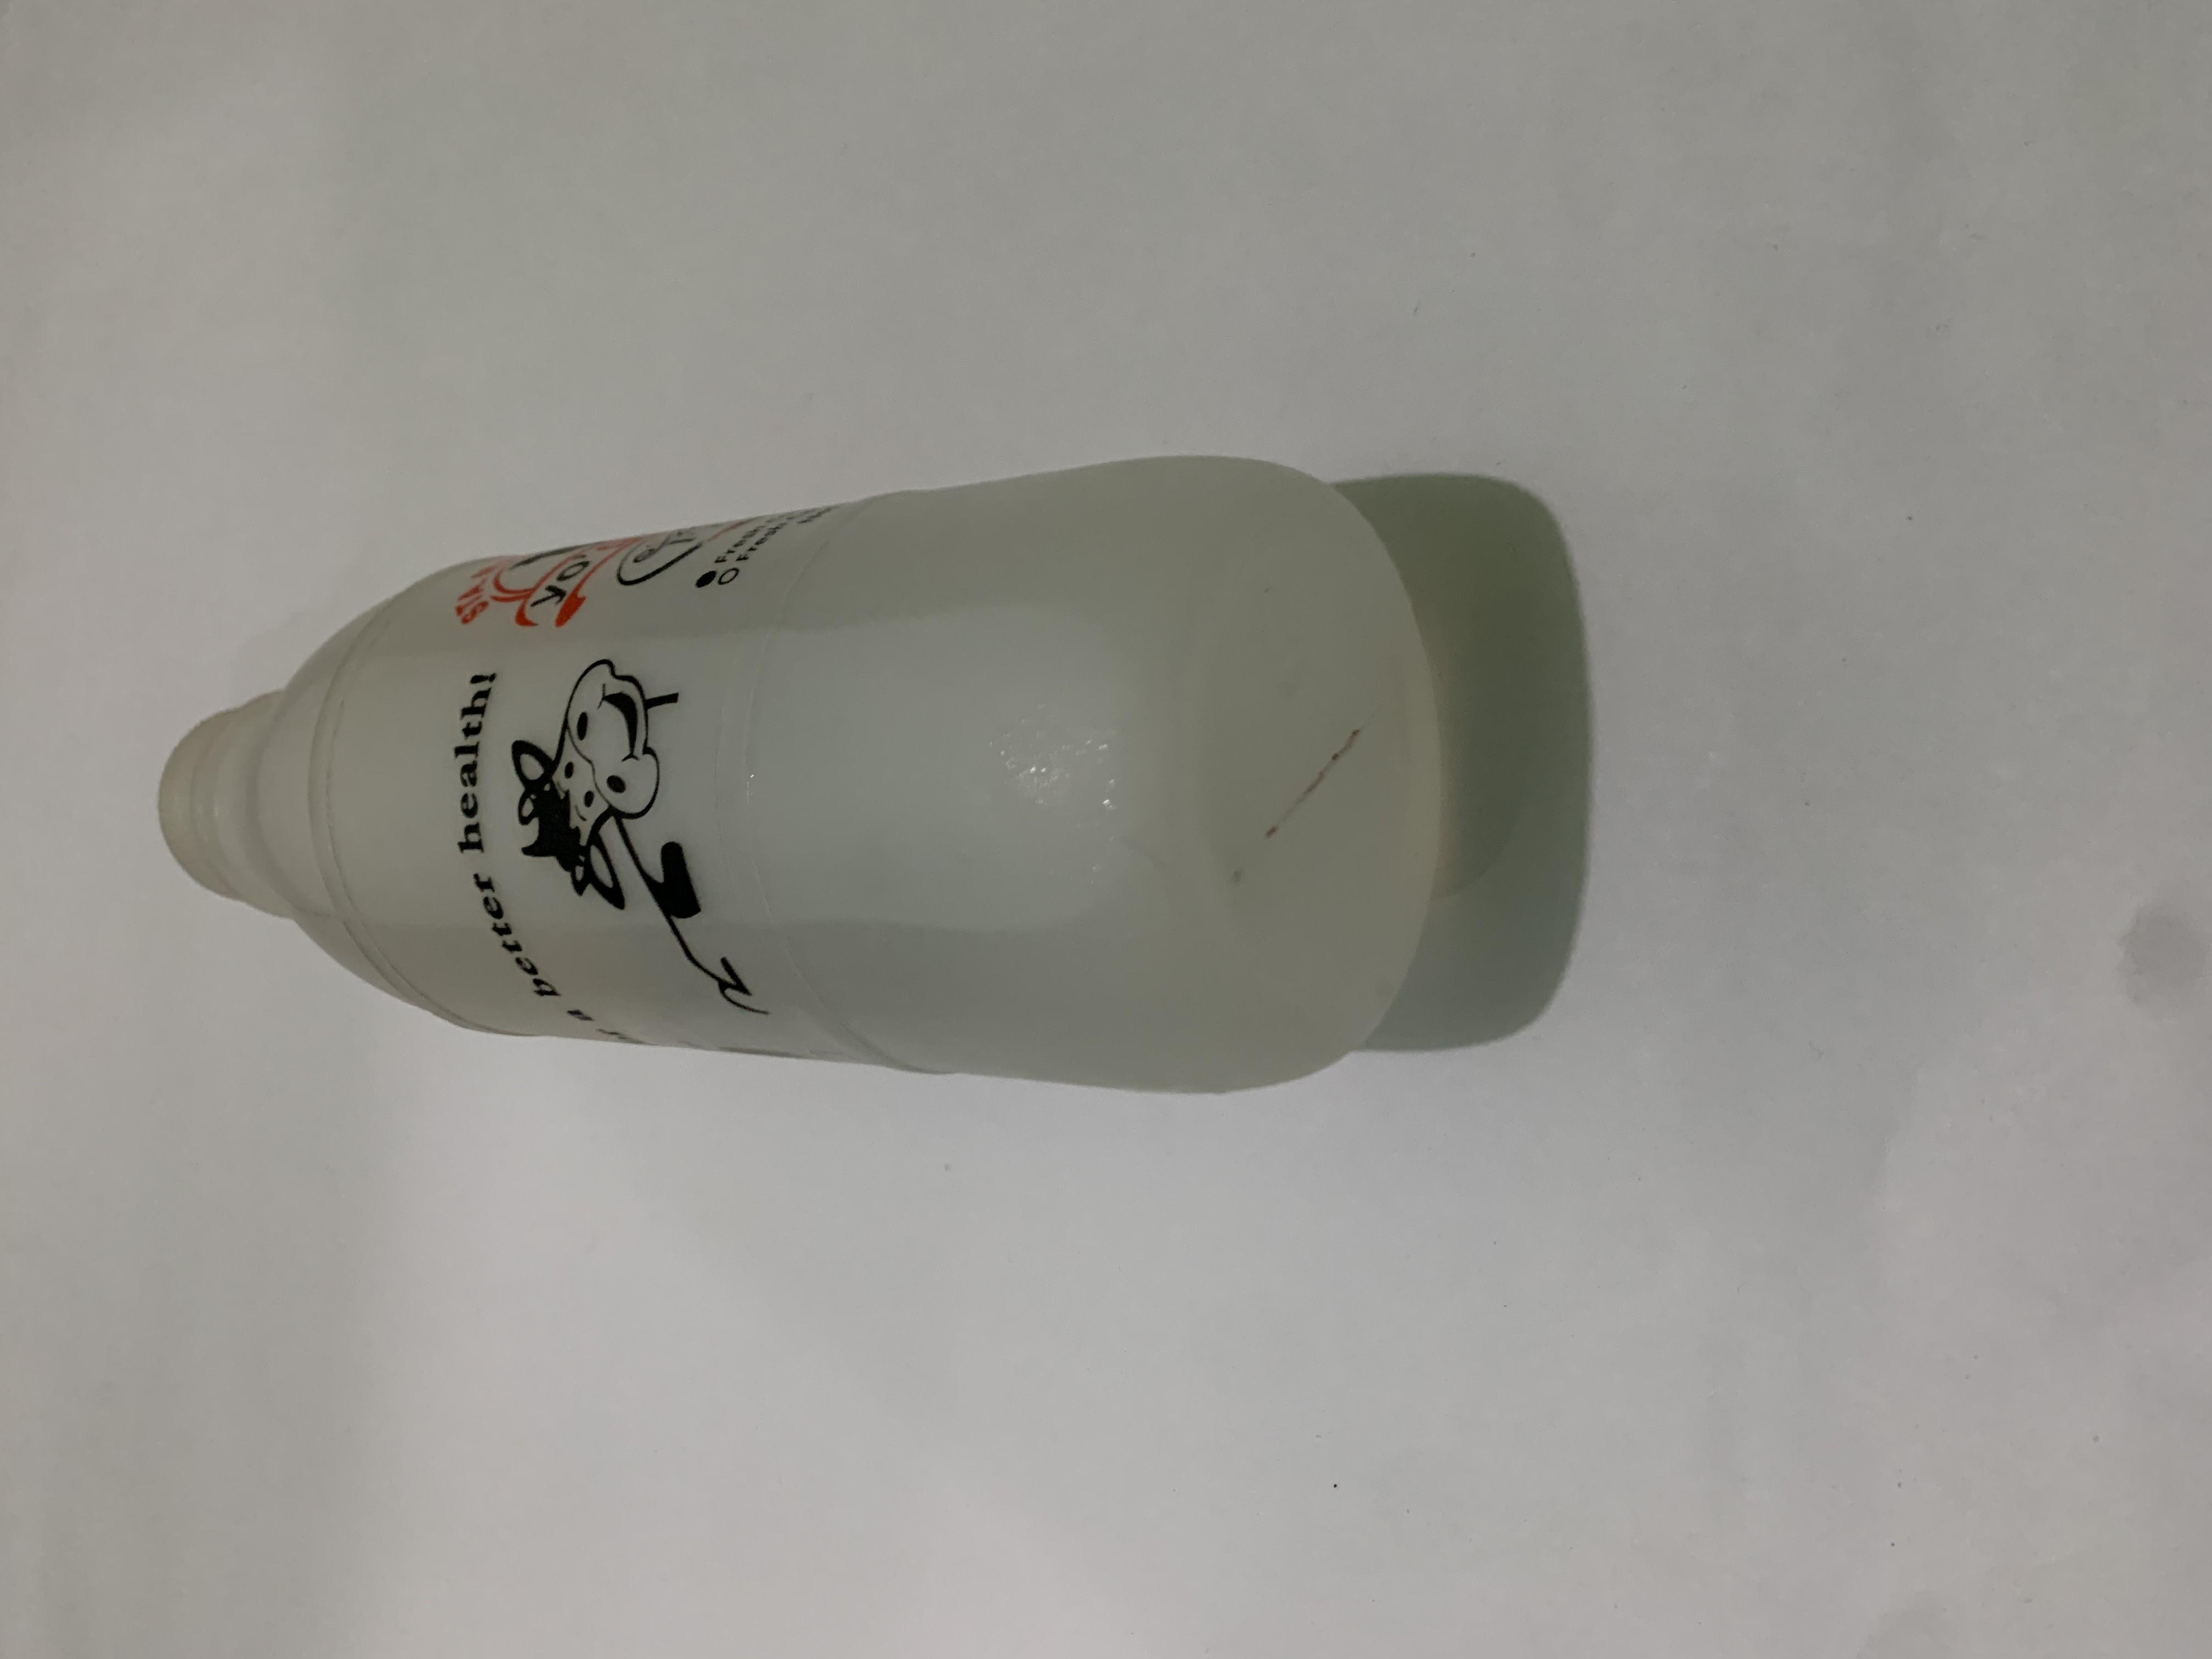bottle: (0, 521, 510, 683)
